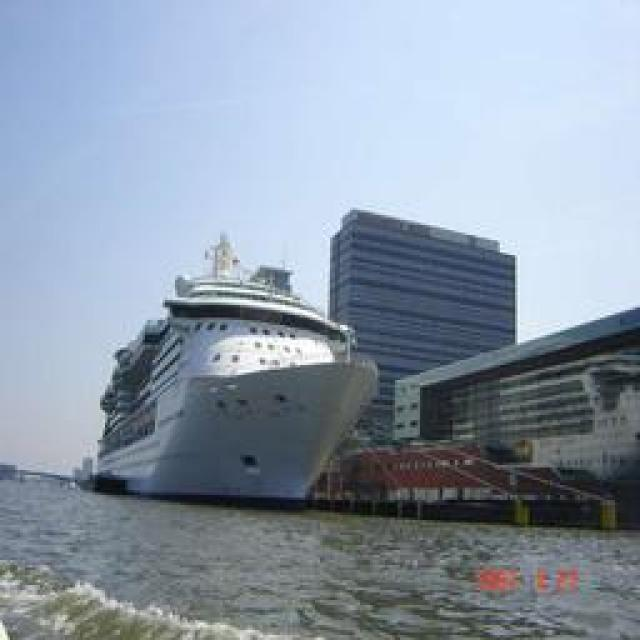CIV_Ship: (88, 250, 382, 505)
